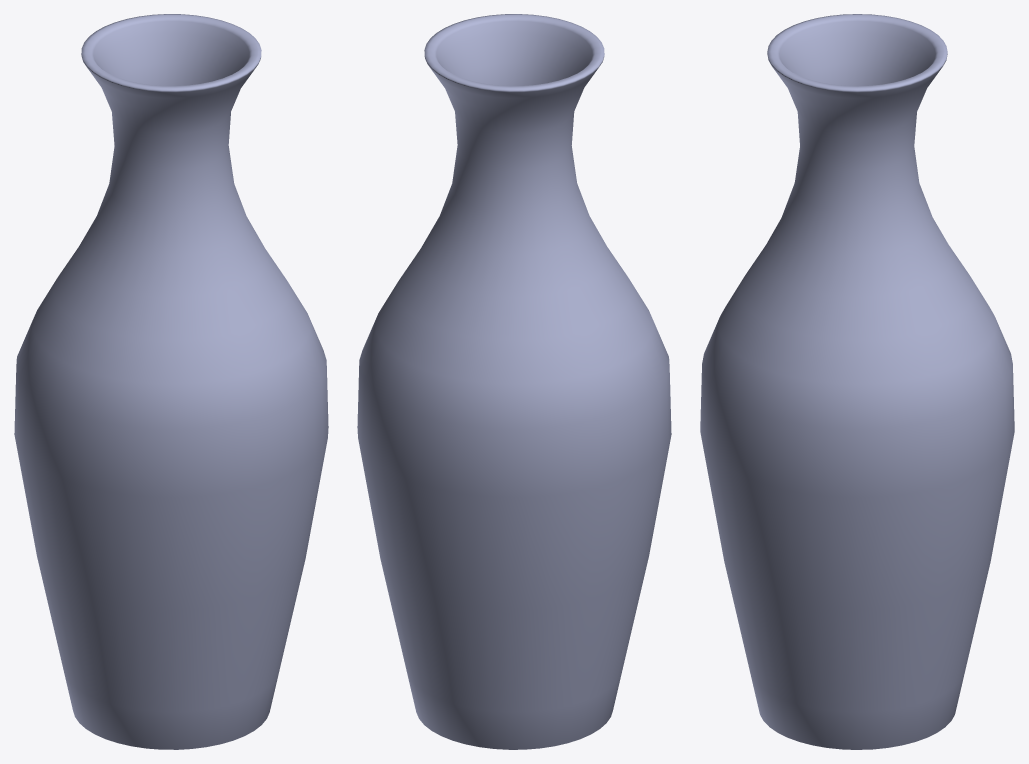
File: vase.fbx
3 views of the same model, side by side, from view 1: azimuth 30°, elevation 25°; view 2: azimuth 150°, elevation 25°; view 3: azimuth 270°, elevation 25° (orthographic).
Parts seen in each view (by area): view 1: pCylinder25; view 2: pCylinder25; view 3: pCylinder25.
Boxes of the visible parts, left/top/right/bottom form: pCylinder25: left=14, top=14, right=328, bottom=749; pCylinder25: left=357, top=14, right=671, bottom=749; pCylinder25: left=700, top=14, right=1014, bottom=749.
Size of the model in its own units: 2.91 by 6.75 by 2.91.
